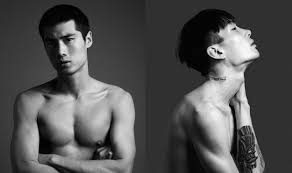asian_male: (28, 5, 106, 89)
